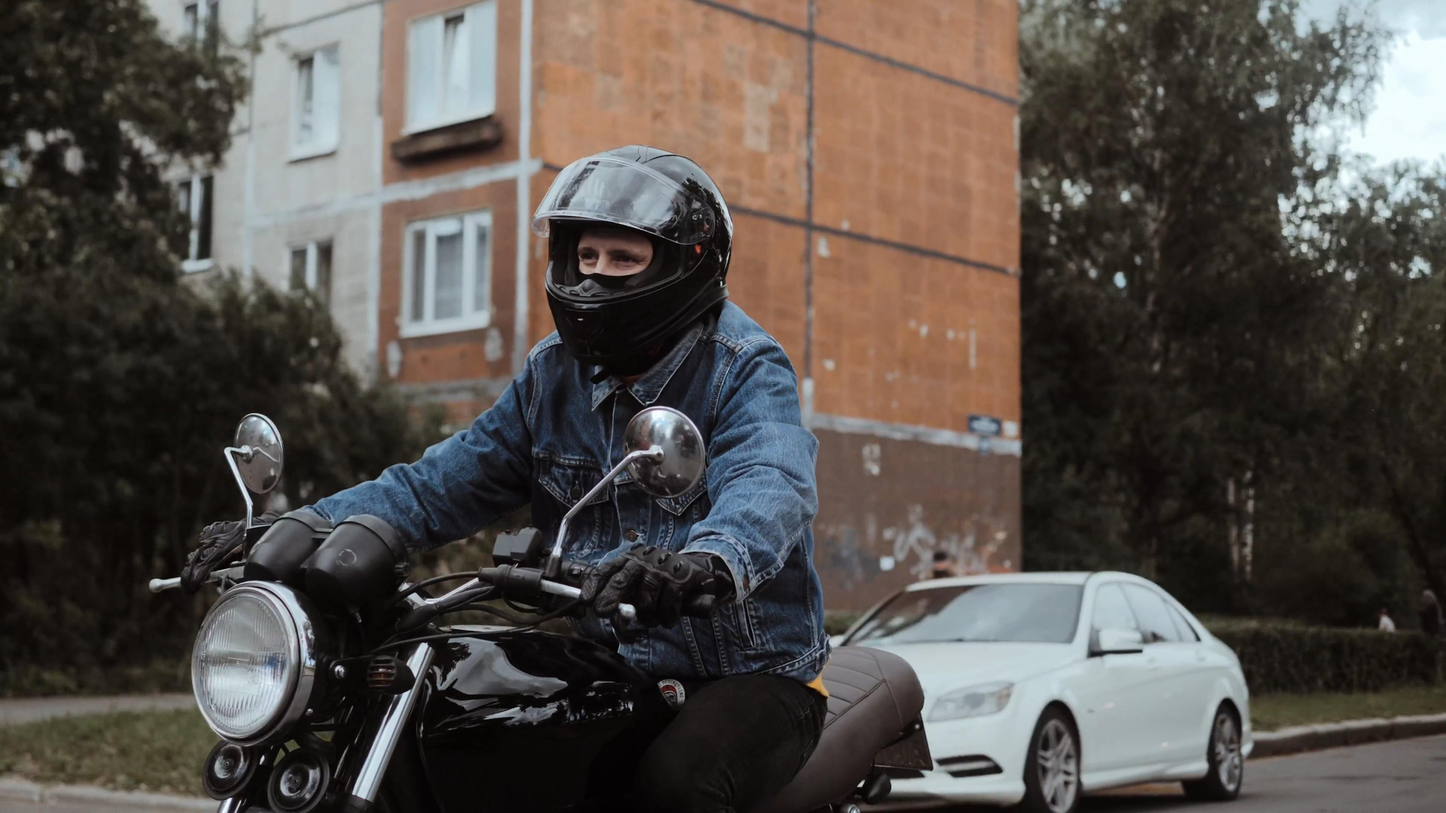driver: (147, 146, 935, 813)
helmet: (531, 145, 735, 384)
